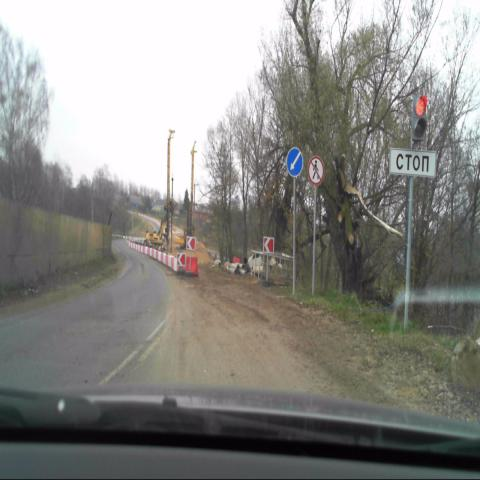3_10: (308, 155, 324, 186)
